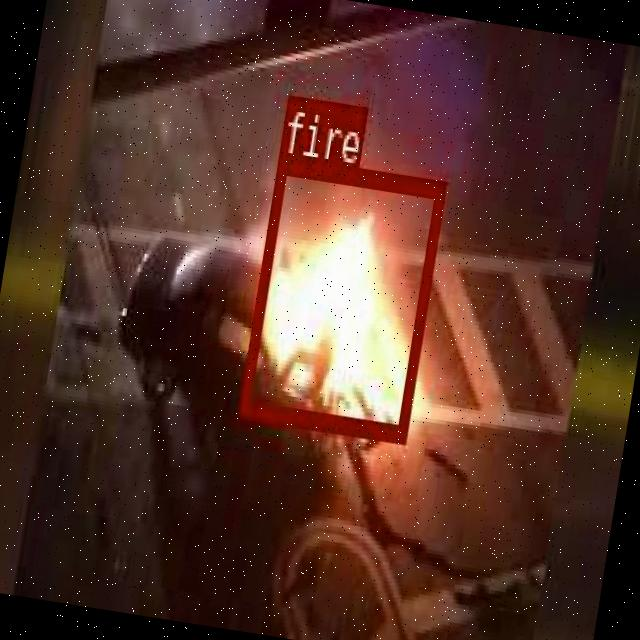fire: (237, 155, 445, 438)
